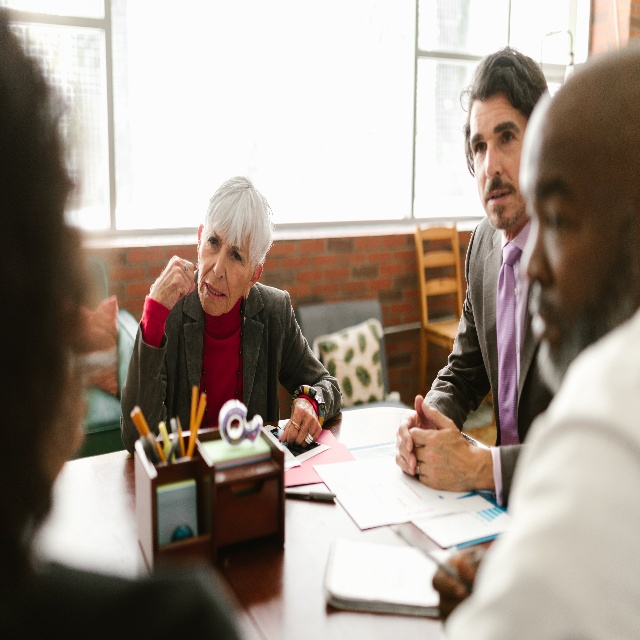Sin_guantes: (409, 400, 472, 492), (395, 392, 438, 478), (432, 548, 483, 616), (150, 254, 196, 310), (279, 396, 322, 449)
